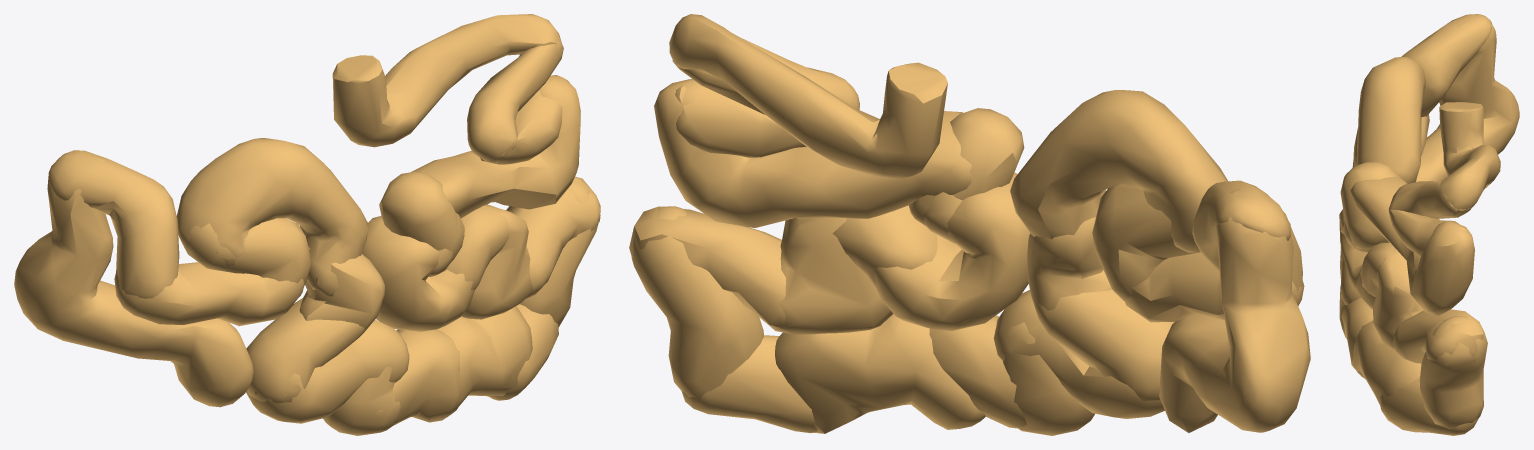
File: jejuno.glb
The picture shows the model from 3 angles, left to right: view 1: azimuth 30°, elevation 25°; view 2: azimuth 150°, elevation 25°; view 3: azimuth 270°, elevation 25°; orthographic projection. The views are drawn at different scales.
Visible parts, largest first — view 1: jejuno; view 2: jejuno; view 3: jejuno.
Part boxes in pixels (x1,y1,x2,y2): jejuno: [14, 14, 600, 435]; jejuno: [629, 14, 1310, 435]; jejuno: [1339, 14, 1519, 435].
Size of the model in its own units: 0.1937 by 0.1144 by 0.0659.
